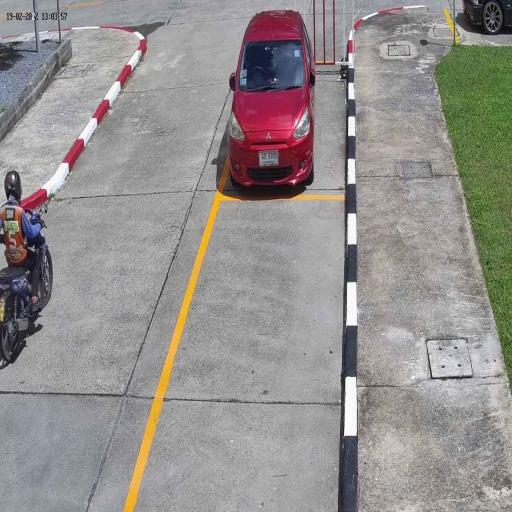car: (228, 10, 316, 189)
motorcycle: (0, 240, 54, 364)
